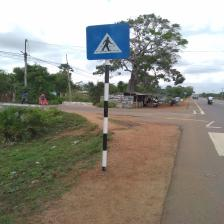blueboard: (85, 22, 131, 60)
crossing: (206, 128, 224, 162)
